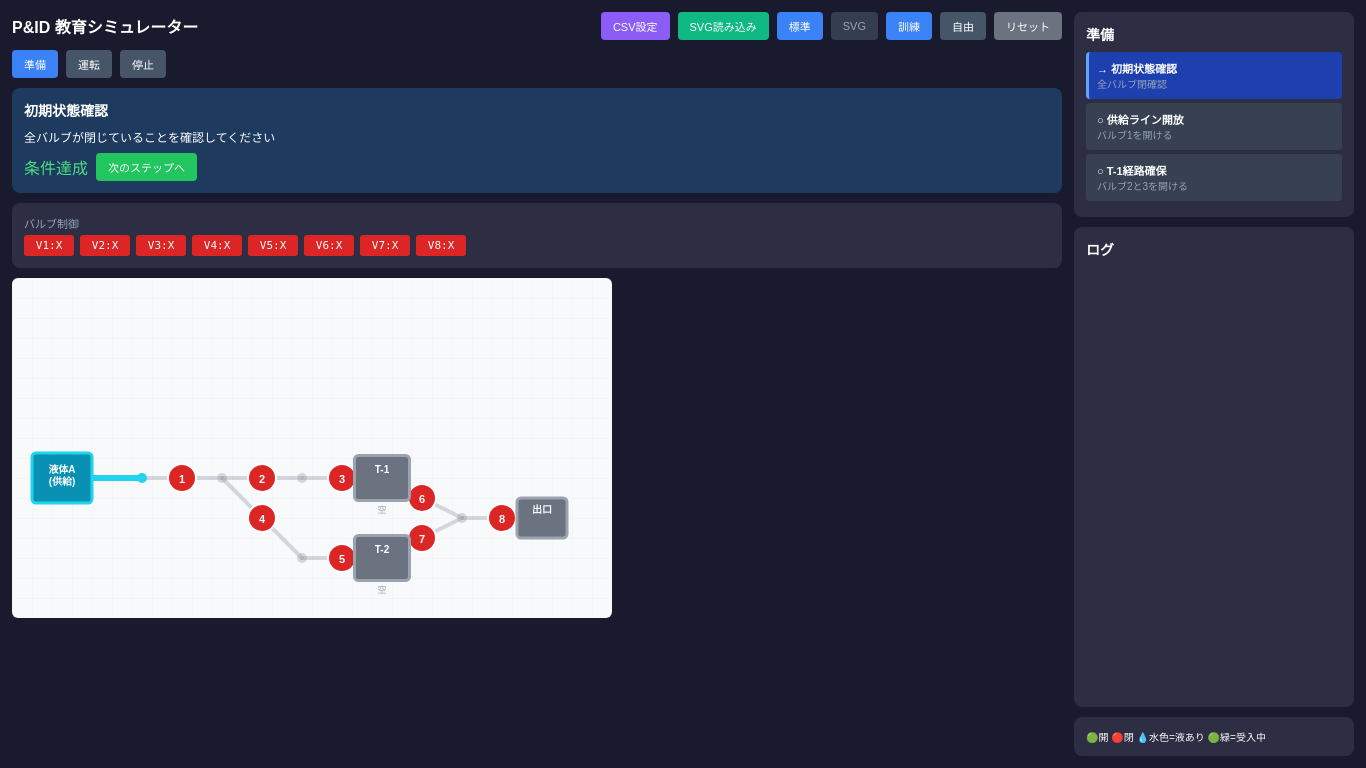
Test: PIDSimulator › バルブ操作 › バルブボタン2回クリックで元に戻る
Click the button "V1:X" at coordinates (49, 246), box [24,235,74,256]
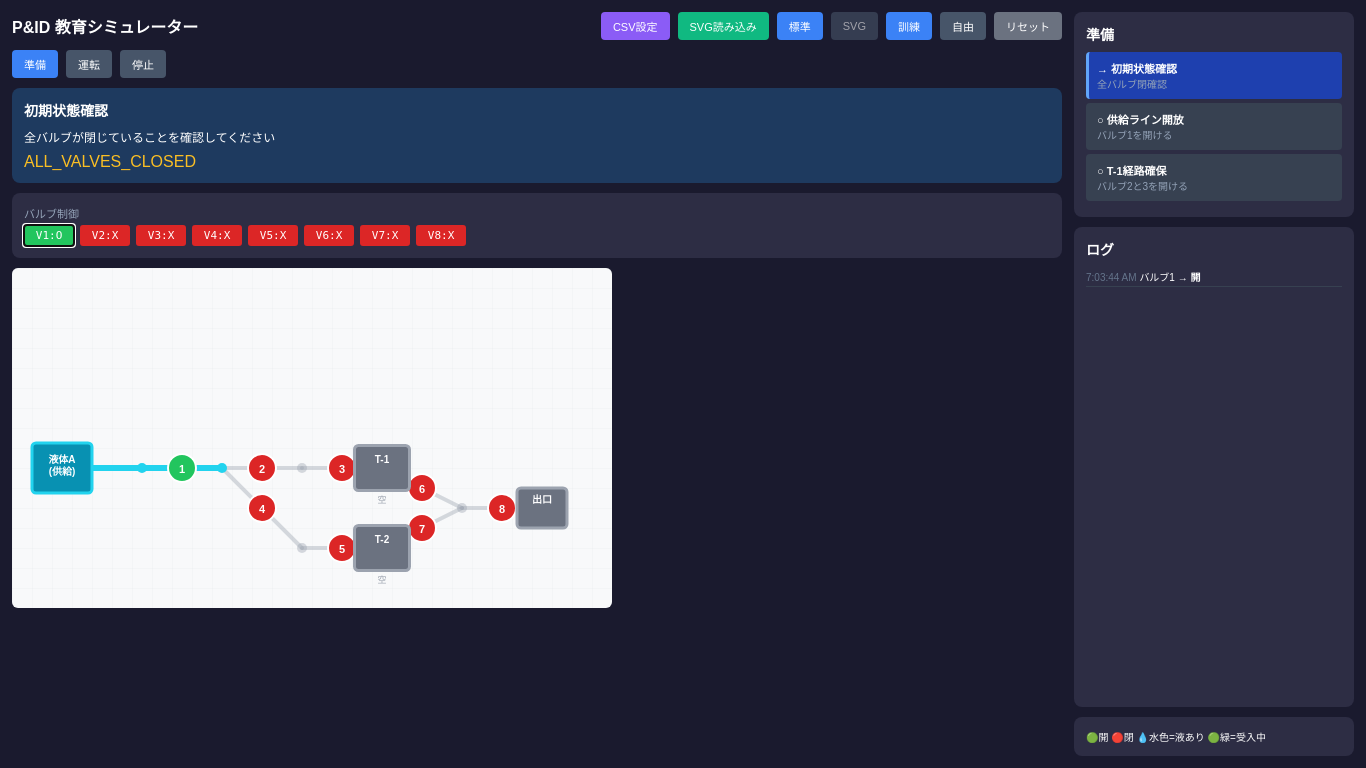
Now the button "V1:O" is shown
Click the button "V1:O" at coordinates (49, 236), box [24,225,74,246]
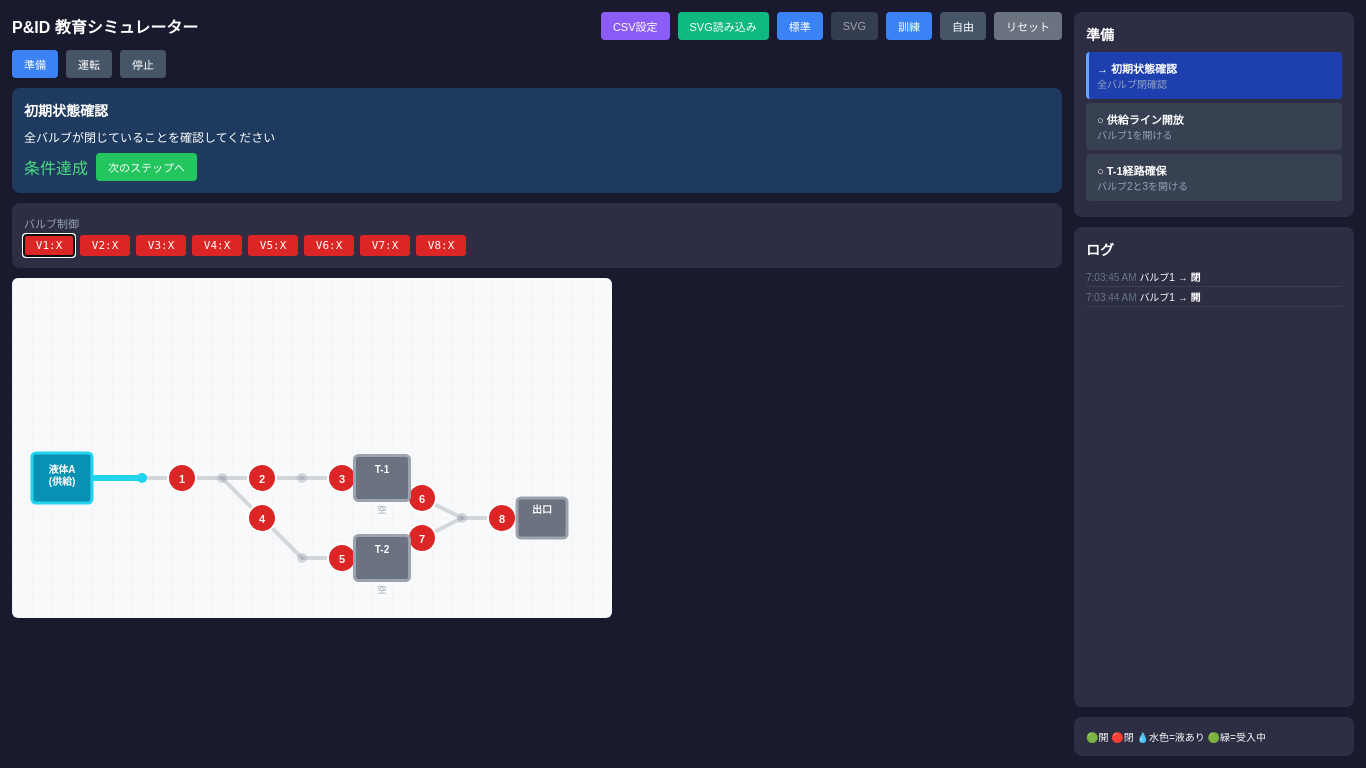
Now the button "V1:X" is shown, box [24,235,74,256]
